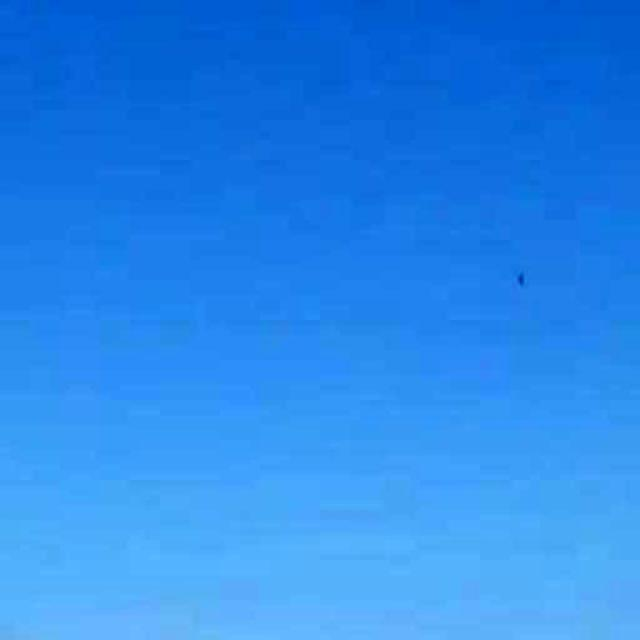drone: (498, 244, 548, 312)
